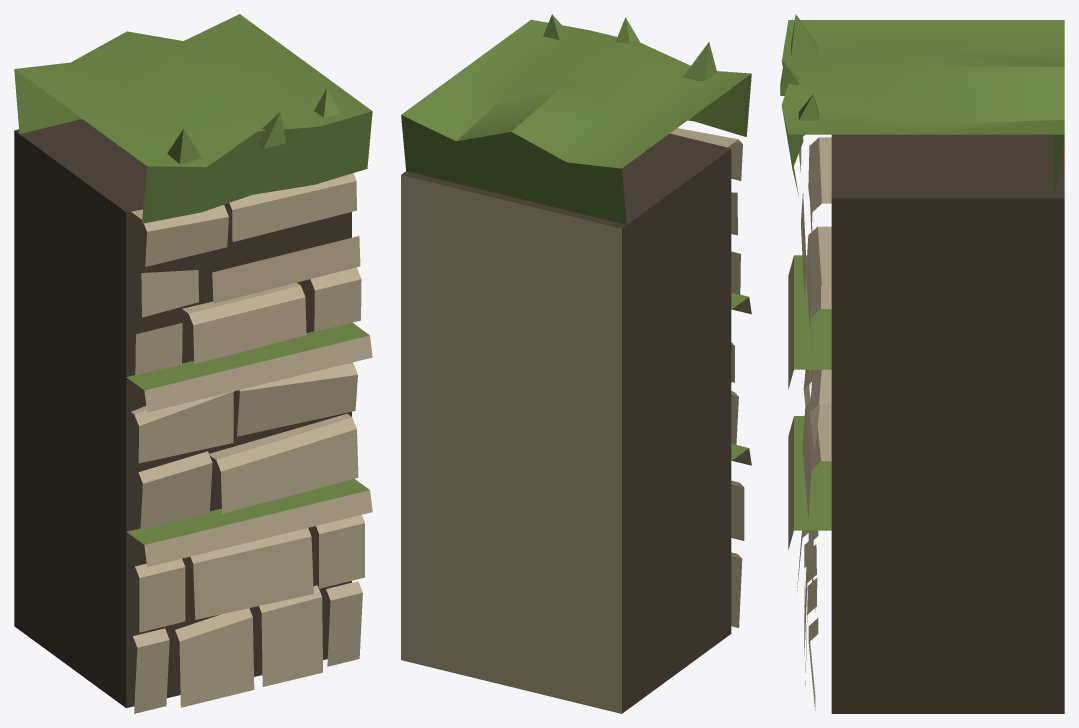
File: grove-straight.glb
The picture shows the model from 3 angles, left to right: view 1: azimuth 30°, elevation 25°; view 2: azimuth 150°, elevation 25°; view 3: azimuth 270°, elevation 25°; orthographic projection. The views are drawn at different scales.
Visible parts, largest first — view 1: grove-straight; view 2: grove-straight; view 3: grove-straight.
Boxes of the visible parts, box(x1,y1,x2,y2) form: grove-straight: box(14, 14, 372, 713); grove-straight: box(401, 14, 751, 713); grove-straight: box(780, 14, 1064, 713).
Bounding box in the file's own units: 0.9998 × 2.47 × 1.05.
